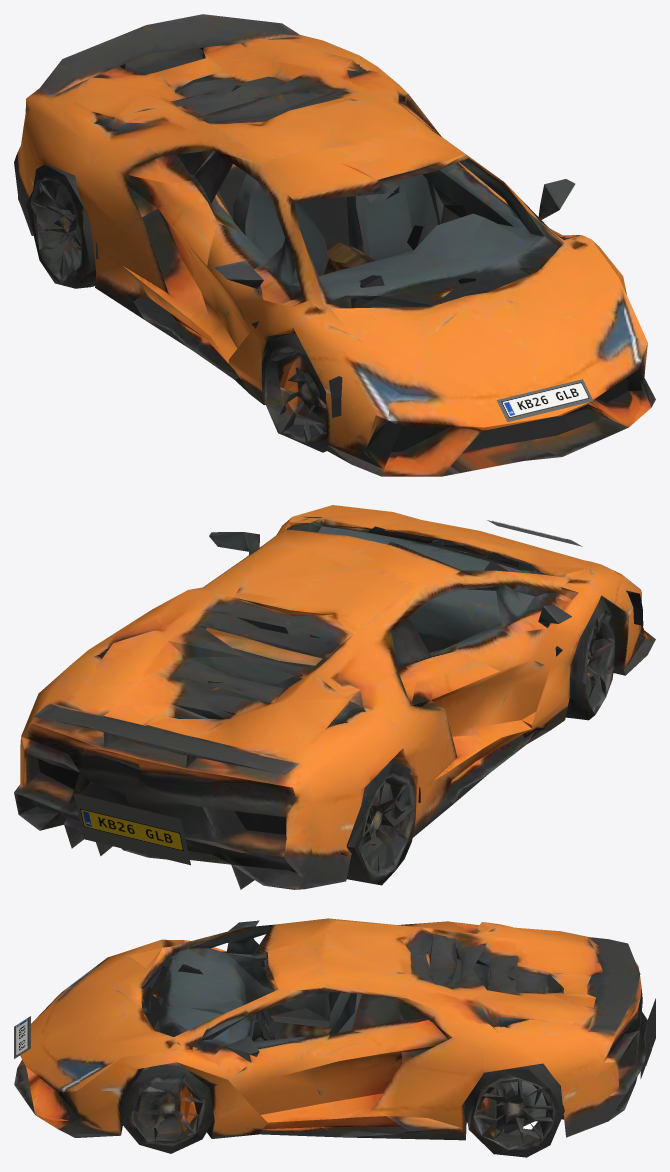
Rendered from car-super-lod.glb.
The picture shows the model from 3 angles, top to bottom: view 1: azimuth 30°, elevation 25°; view 2: azimuth 150°, elevation 25°; view 3: azimuth 270°, elevation 25°; orthographic projection. The views are drawn at different scales.
Parts seen in each view (by area): view 1: body, wheel_RR_mesh, wheel_FR_mesh; view 2: body, wheel_RR_mesh, wheel_FR_mesh; view 3: body, wheel_RL_mesh, wheel_FL_mesh, wheel_FR_mesh.
Part boxes in pixels (<box>): body: <box>14,14,655,476</box>; wheel_RR_mesh: <box>26,163,96,288</box>; wheel_FR_mesh: <box>258,295,377,452</box>; body: <box>14,505,655,889</box>; wheel_RR_mesh: <box>346,761,415,885</box>; wheel_FR_mesh: <box>524,566,629,720</box>; body: <box>14,918,655,1140</box>; wheel_RL_mesh: <box>461,1067,564,1157</box>; wheel_FL_mesh: <box>121,1062,213,1153</box>; wheel_FR_mesh: <box>129,946,175,967</box>.
Bounding box in the file's own units: 2.31 × 1.21 × 4.66.
Materials: 3 (2 with a texture image).
